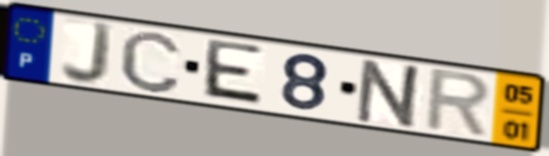8: (277, 51, 332, 114)
C: (117, 28, 185, 96)
E: (198, 36, 266, 110)
J: (58, 19, 117, 88)
N: (352, 57, 428, 132)
R: (421, 66, 496, 141)
